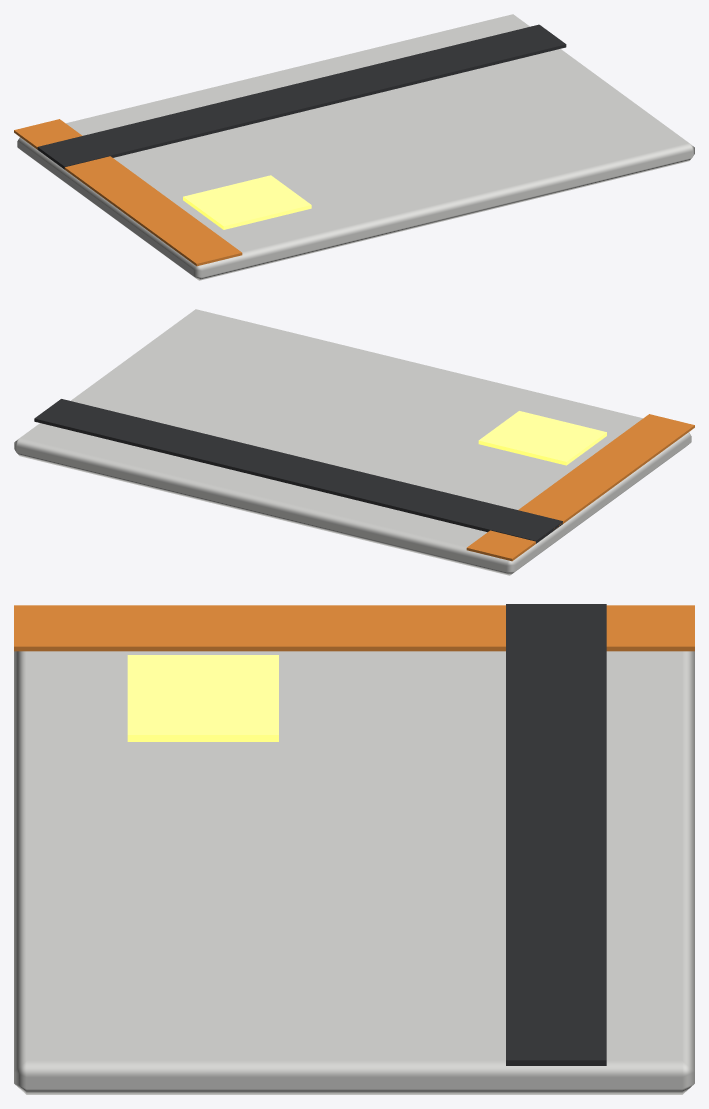
The model's file is keycard.glb.
3 views of the same model, one above another, from view 1: azimuth 30°, elevation 25°; view 2: azimuth 150°, elevation 25°; view 3: azimuth 270°, elevation 25° (orthographic). The views are drawn at different scales.
Visible parts, largest first — view 1: keycard; view 2: keycard; view 3: keycard.
Boxes of the visible parts, x1,y1,x2,y2 form: keycard: [14, 14, 694, 280]; keycard: [14, 309, 694, 575]; keycard: [14, 604, 694, 1094].
Size of the model in its own units: 0.0856 by 0.0036 by 0.054.
